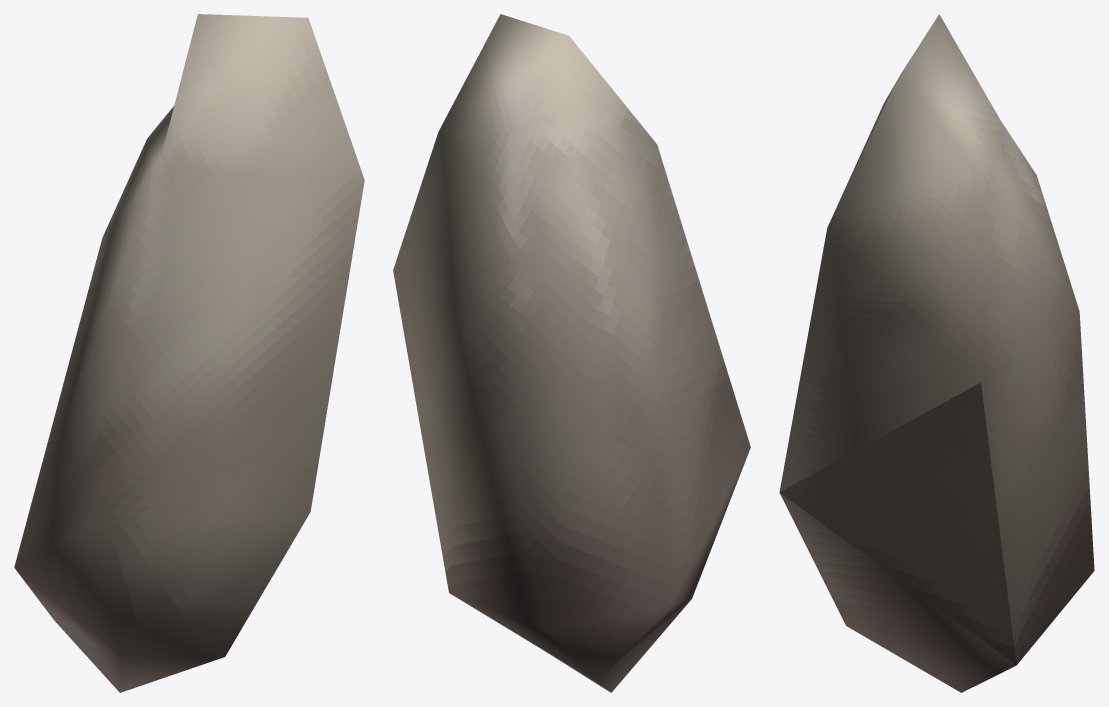
Rendered from pedra_11.glb.
3 views of the same model, side by side, from view 1: azimuth 30°, elevation 25°; view 2: azimuth 150°, elevation 25°; view 3: azimuth 270°, elevation 25° (orthographic). The views are drawn at different scales.
Visible parts, largest first — view 1: SM_Rocks_11; view 2: SM_Rocks_11; view 3: SM_Rocks_11.
Boxes of the visible parts, <box> form: SM_Rocks_11: <box>14,14,364,692</box>; SM_Rocks_11: <box>393,14,750,692</box>; SM_Rocks_11: <box>779,14,1094,692</box>.
Size of the model in its own units: 0.3514 by 0.7172 by 0.2953.
1 material, 1 textured.
